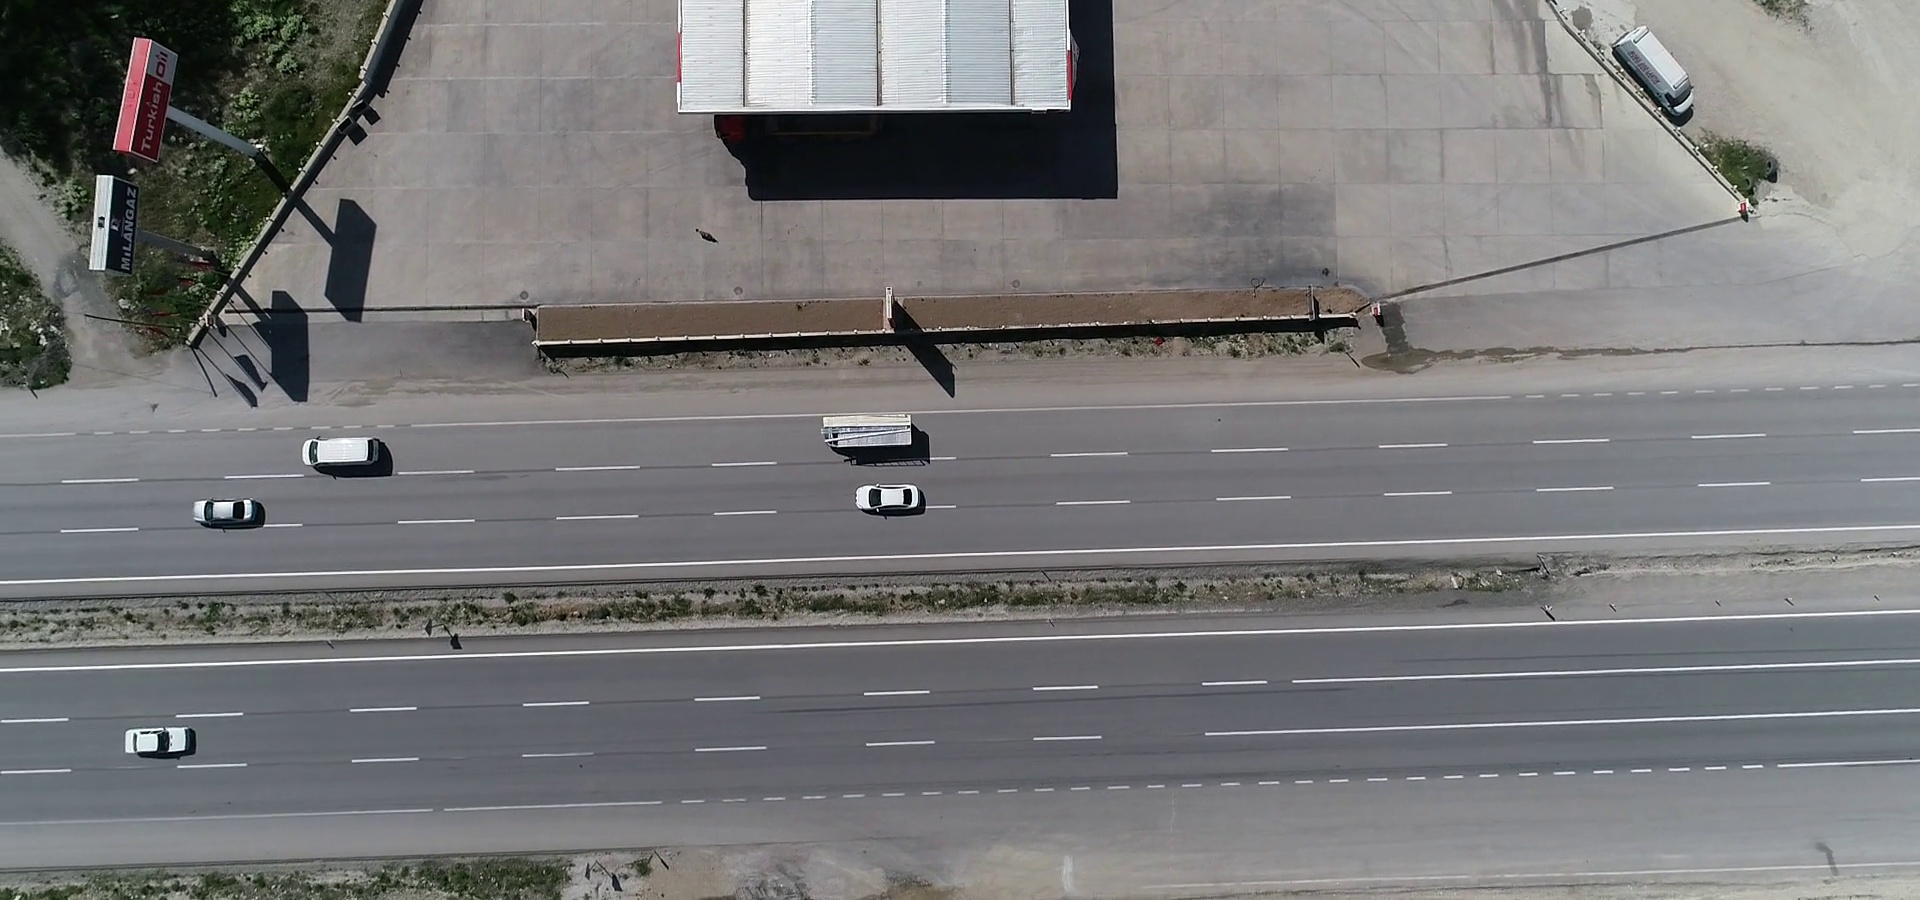arac: (1608, 10, 1704, 122), (841, 478, 924, 520), (289, 435, 387, 470), (118, 724, 200, 762), (189, 493, 266, 529)
